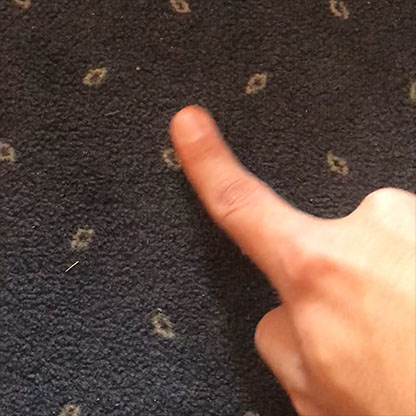fingertip: (166, 101, 225, 158)
